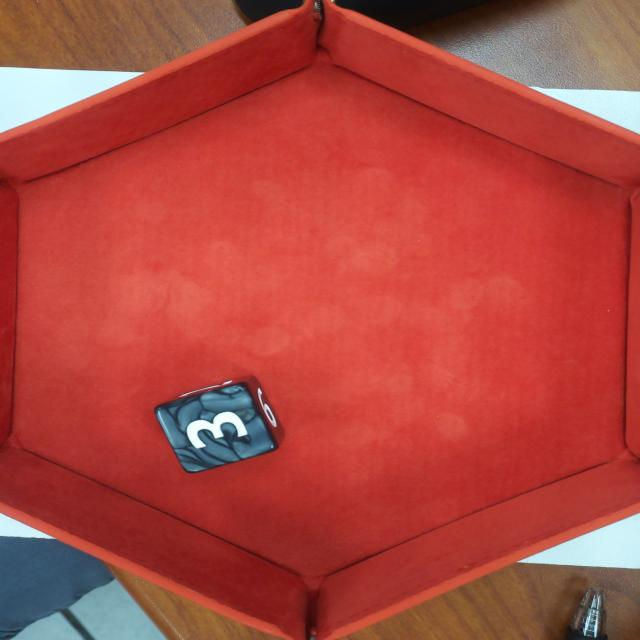dice: (151, 379, 282, 474)
